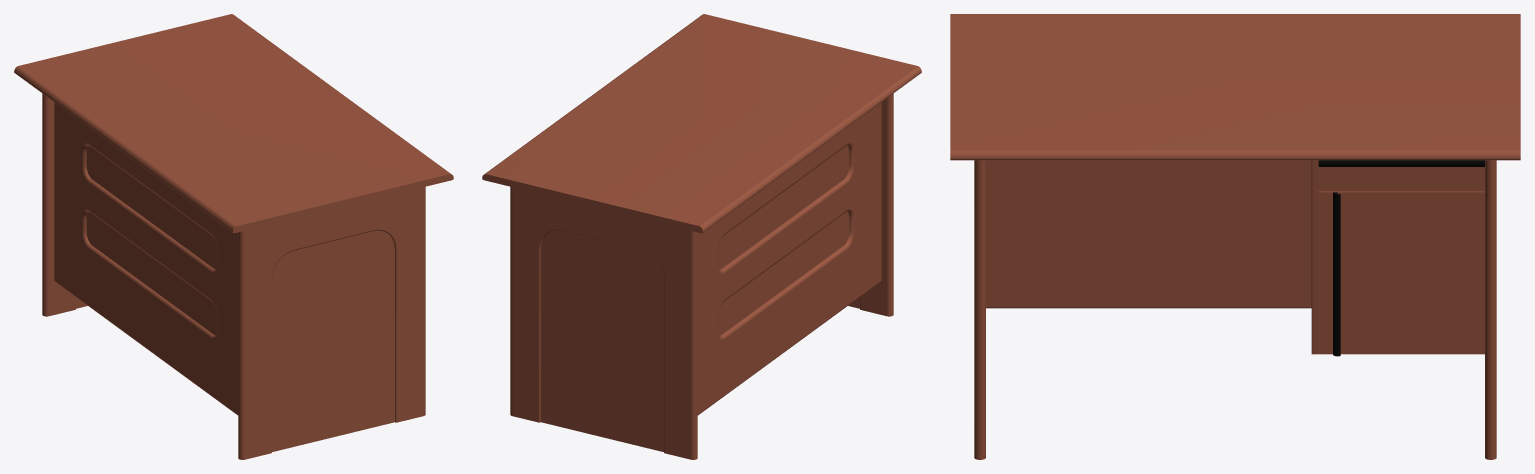
File: Meja.dae
3 renders of one model, left to right at view 1: azimuth 30°, elevation 25°; view 2: azimuth 150°, elevation 25°; view 3: azimuth 270°, elevation 25°, orthographic. The views are drawn at different scales.
Parts seen in each view (by area): view 1: group_5, group_4, group_3 (×3), group_6; view 2: group_5, group_6, group_3 (×3), group_4; view 3: group_5, group_3, group_1, group_13, group_4, group_6, group_8, group_2, group_14.
Part boxes in pixels (box(x1,y1,x2,y2)): group_5: box(14, 14, 453, 233); group_4: box(238, 186, 425, 459); group_3 (×3): box(54, 102, 238, 415); group_6: box(42, 93, 87, 316); group_5: box(482, 14, 921, 233); group_6: box(510, 186, 697, 459); group_3 (×3): box(697, 102, 881, 415); group_4: box(848, 93, 893, 316); group_5: box(950, 14, 1520, 160); group_3: box(986, 160, 1311, 308); group_1: box(1318, 191, 1484, 354); group_13: box(1318, 167, 1484, 191); group_4: box(974, 160, 985, 459); group_6: box(1485, 160, 1496, 459); group_8: box(1311, 160, 1318, 354); group_2: box(1333, 192, 1340, 356); group_14: box(1318, 160, 1484, 166).
Size of the model in its own units: 27.56 by 47.24 by 29.13.
